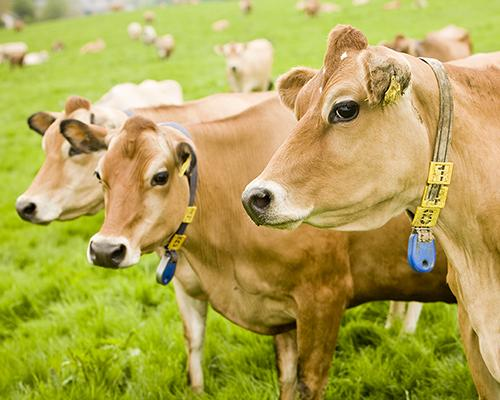cow: (16, 25, 499, 398)
